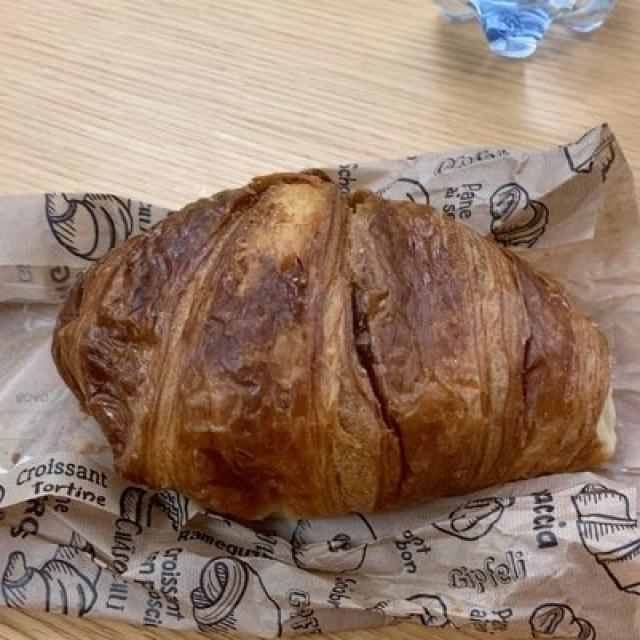croissant: (57, 174, 609, 516)
